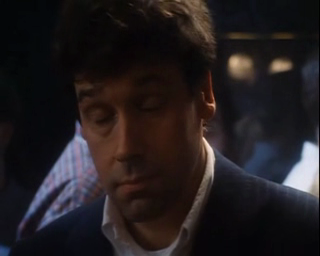cu: (1, 1, 320, 256)
face: (73, 54, 187, 222)
person: (8, 1, 320, 256)
